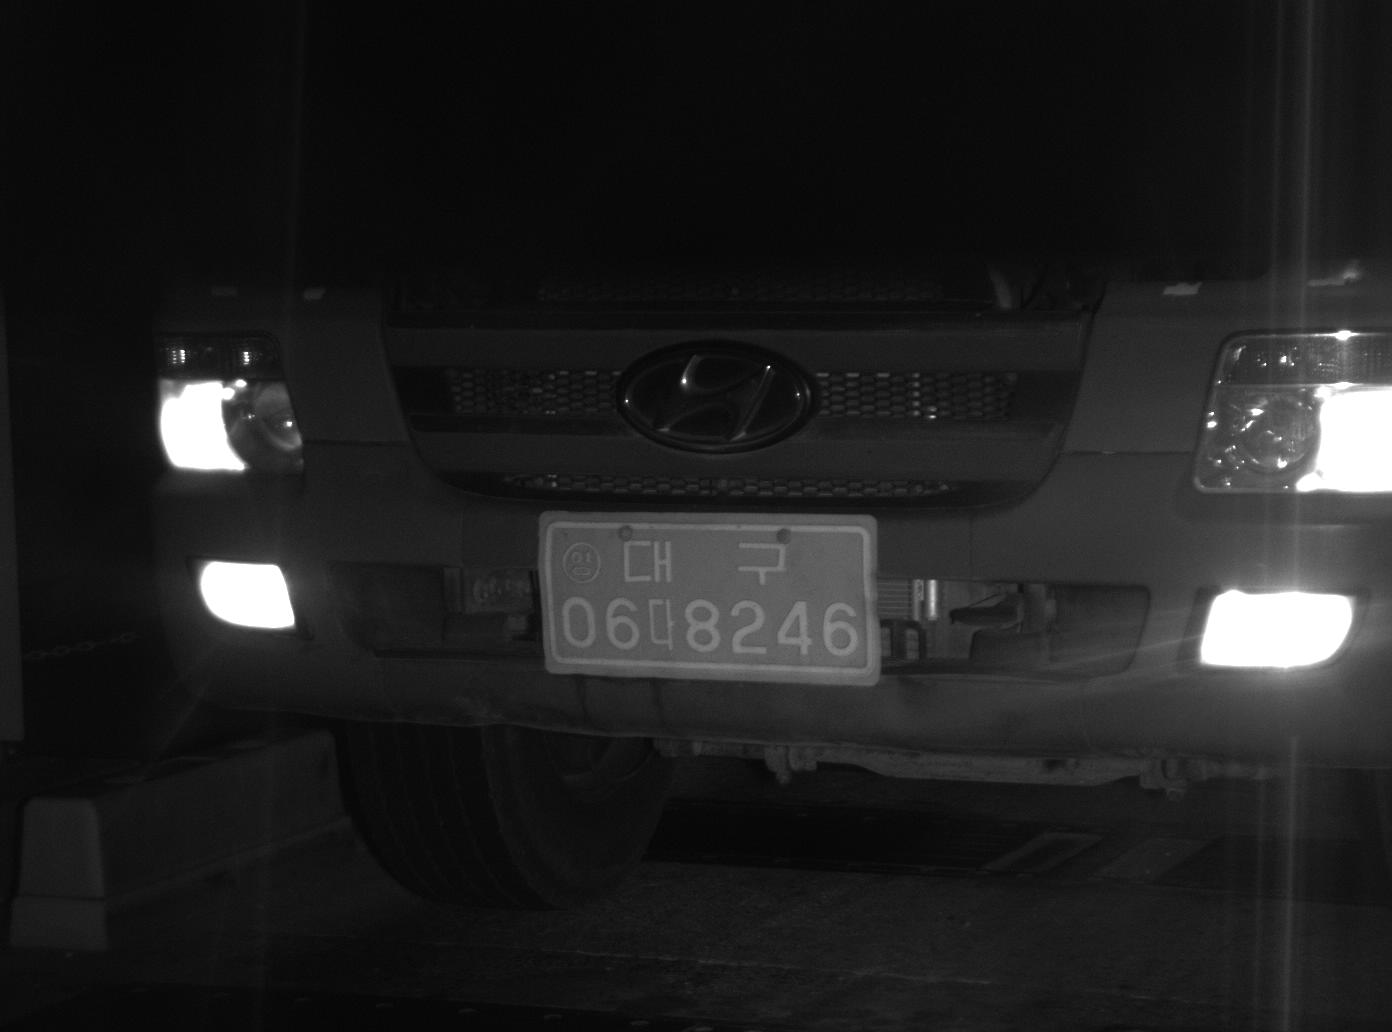car: (96, 181, 1389, 923)
plate: (535, 511, 879, 681)
